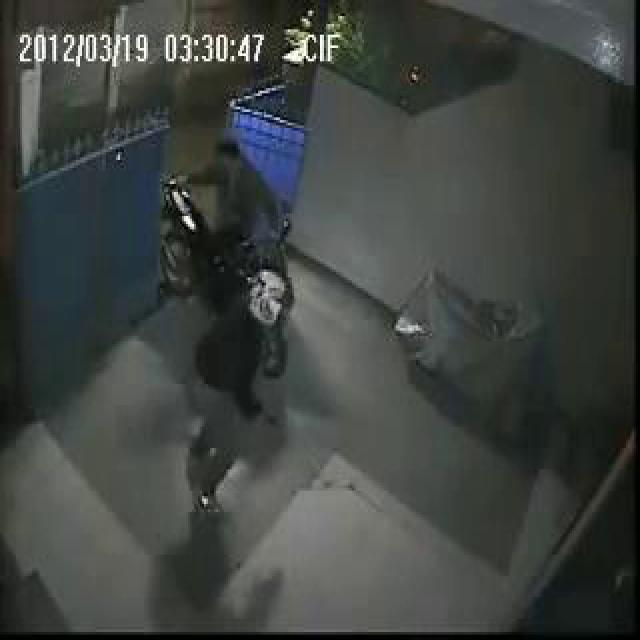stealing: (152, 70, 365, 534)
